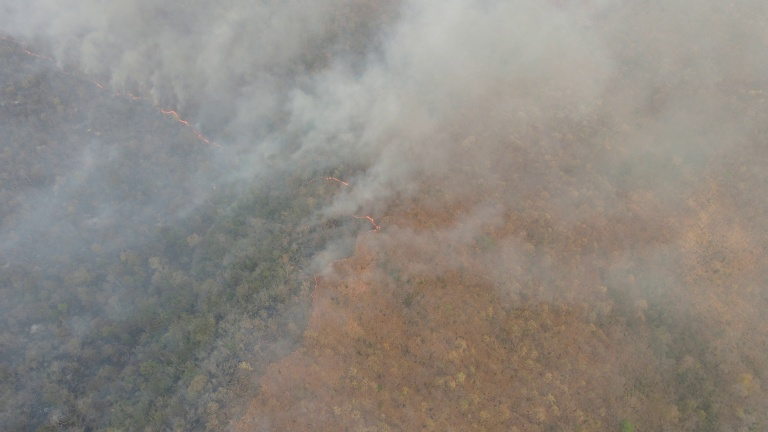fire: (1, 33, 145, 102), (153, 106, 228, 157), (302, 248, 355, 310), (339, 213, 387, 239), (302, 171, 357, 191)
smoke: (307, 1, 698, 214), (6, 1, 344, 186)
